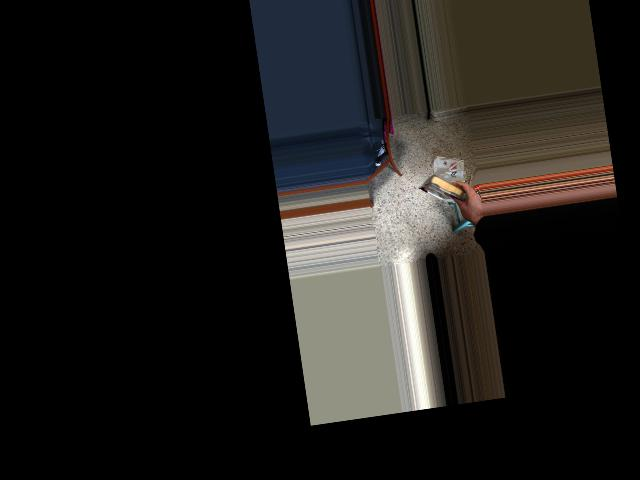cheese: (416, 167, 479, 211)
